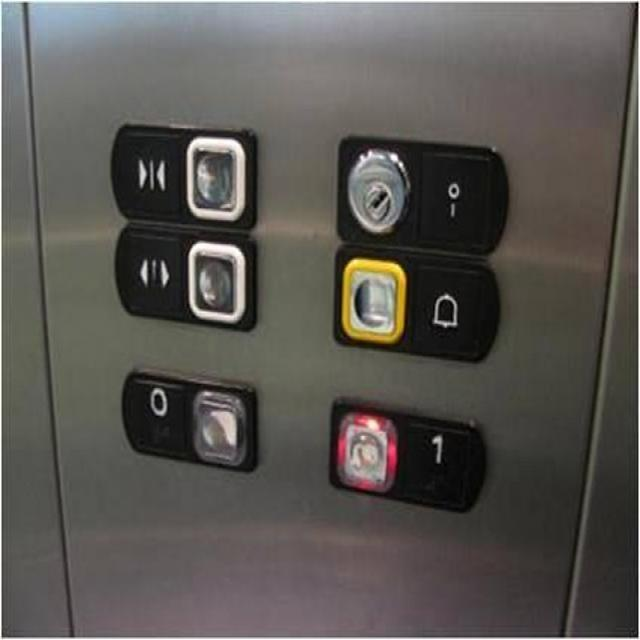0: (118, 362, 261, 474)
1: (324, 393, 493, 519)
alarm: (330, 239, 500, 364)
close: (106, 113, 258, 231)
keyhole: (332, 131, 510, 261)
open: (112, 219, 259, 333)
